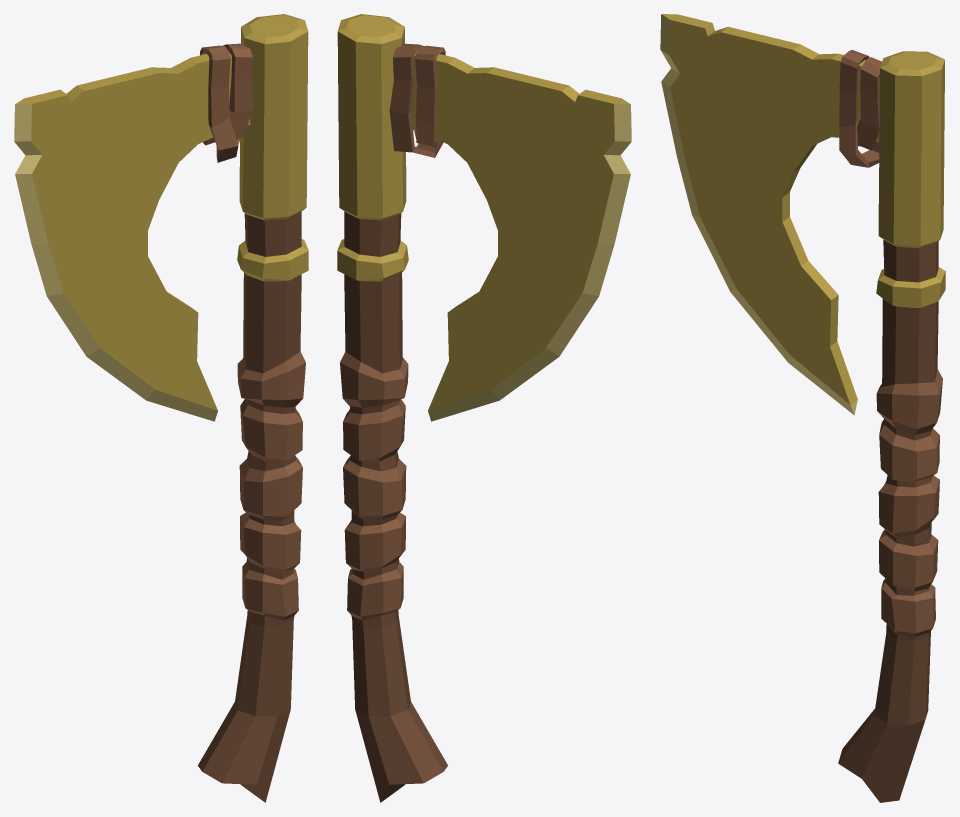
Rendered from SM_Axe_small_Golden.fbx.
3 renders of one model, left to right at view 1: azimuth 30°, elevation 25°; view 2: azimuth 150°, elevation 25°; view 3: azimuth 330°, elevation 25°, orthographic. The views are drawn at different scales.
Parts seen in each view (by area): view 1: SM_Axe_small_Golden; view 2: SM_Axe_small_Golden; view 3: SM_Axe_small_Golden.
Part boxes in pixels (x1,y1,x2,y2): SM_Axe_small_Golden: [14, 14, 308, 802]; SM_Axe_small_Golden: [337, 14, 631, 802]; SM_Axe_small_Golden: [660, 14, 945, 802].
Size of the model in its own units: 62.36 by 157 by 13.22.
